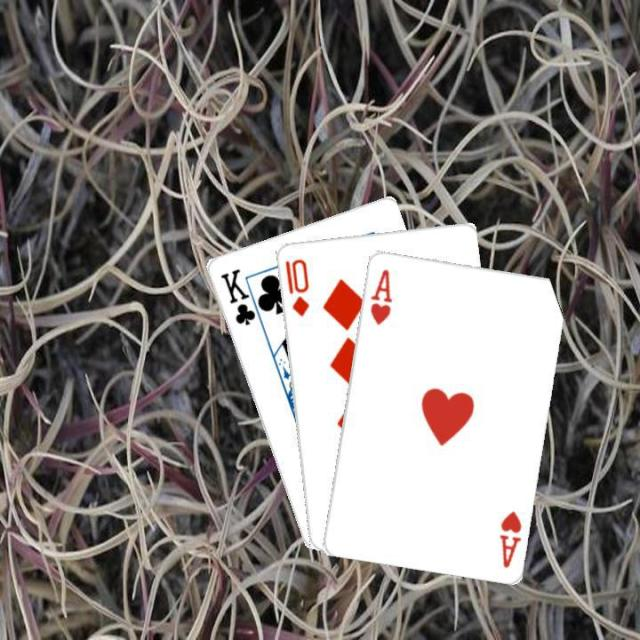10D: (280, 255, 310, 318)
AH: (494, 507, 524, 569), (365, 265, 394, 326)
KC: (216, 264, 266, 328)
